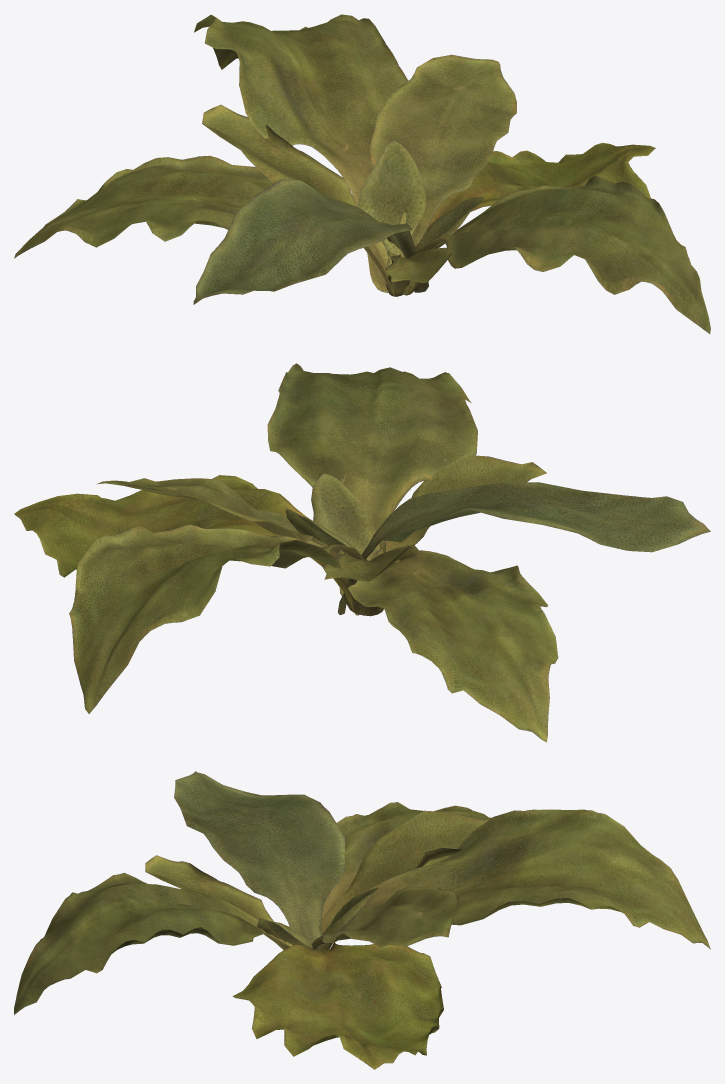
File: crystalline_iceplant_04.glb
3 renders of one model, top to bottom at view 1: azimuth 30°, elevation 25°; view 2: azimuth 150°, elevation 25°; view 3: azimuth 270°, elevation 25°, orthographic. The views are drawn at different scales.
Parts seen in each view (by area): view 1: crystalline_iceplant; view 2: crystalline_iceplant; view 3: crystalline_iceplant.
Part boxes in pixels (x1=…): crystalline_iceplant: x1=14, y1=14, x2=710, y2=333; crystalline_iceplant: x1=14, y1=363, x2=710, y2=742; crystalline_iceplant: x1=14, y1=771, x2=710, y2=1069.
Size of the model in its own units: 0.2762 by 0.081 by 0.3155.
Materials: 1 (1 with a texture image).
